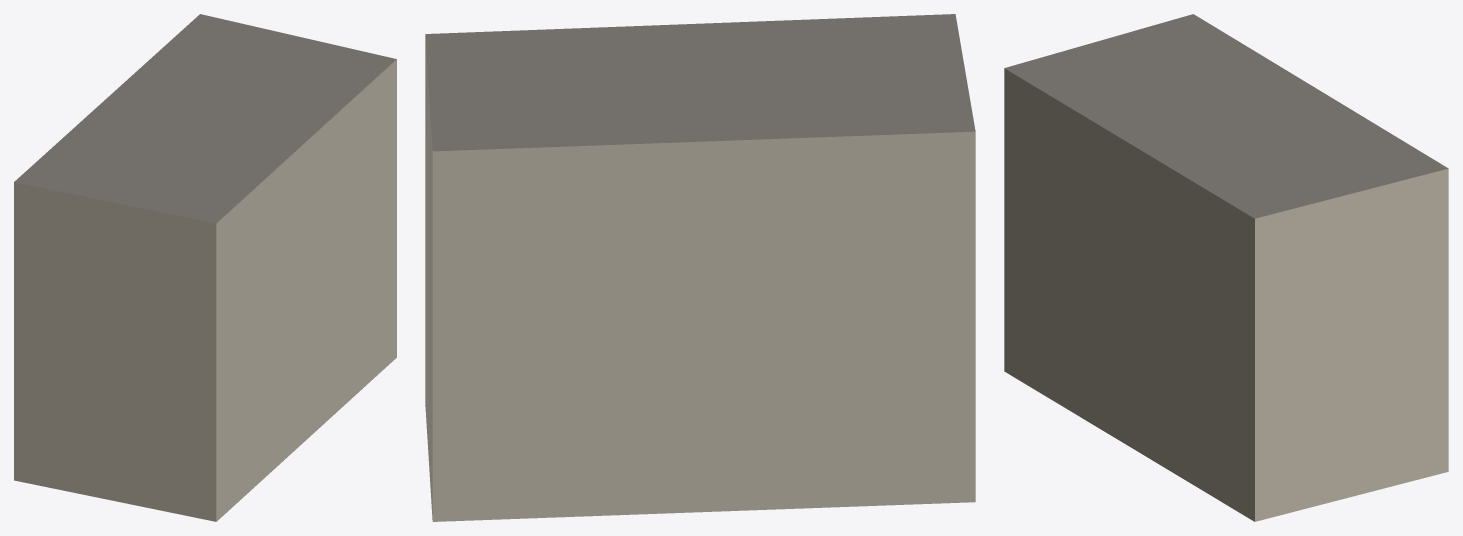
3 renders of one model, left to right at view 1: azimuth 30°, elevation 25°; view 2: azimuth 150°, elevation 25°; view 3: azimuth 270°, elevation 25°, orthographic. The views are drawn at different scales.
Parts seen in each view (by area): view 1: HP-w300653866; view 2: HP-w300653866; view 3: HP-w300653866.
Boxes of the visible parts, left/top/right/bottom form: HP-w300653866: left=14, top=14, right=396, bottom=521; HP-w300653866: left=425, top=14, right=975, bottom=521; HP-w300653866: left=1004, top=14, right=1448, bottom=521.
Bounding box in the file's own units: 26.07 × 18 × 23.92.
